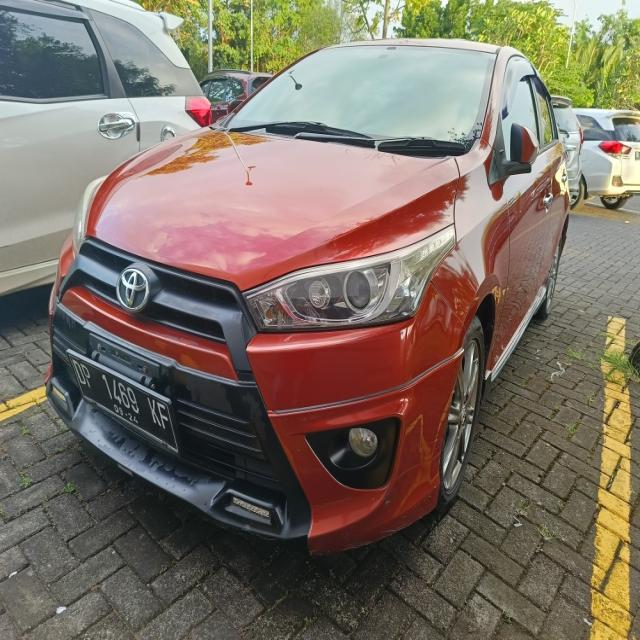plates: (69, 352, 181, 447)
